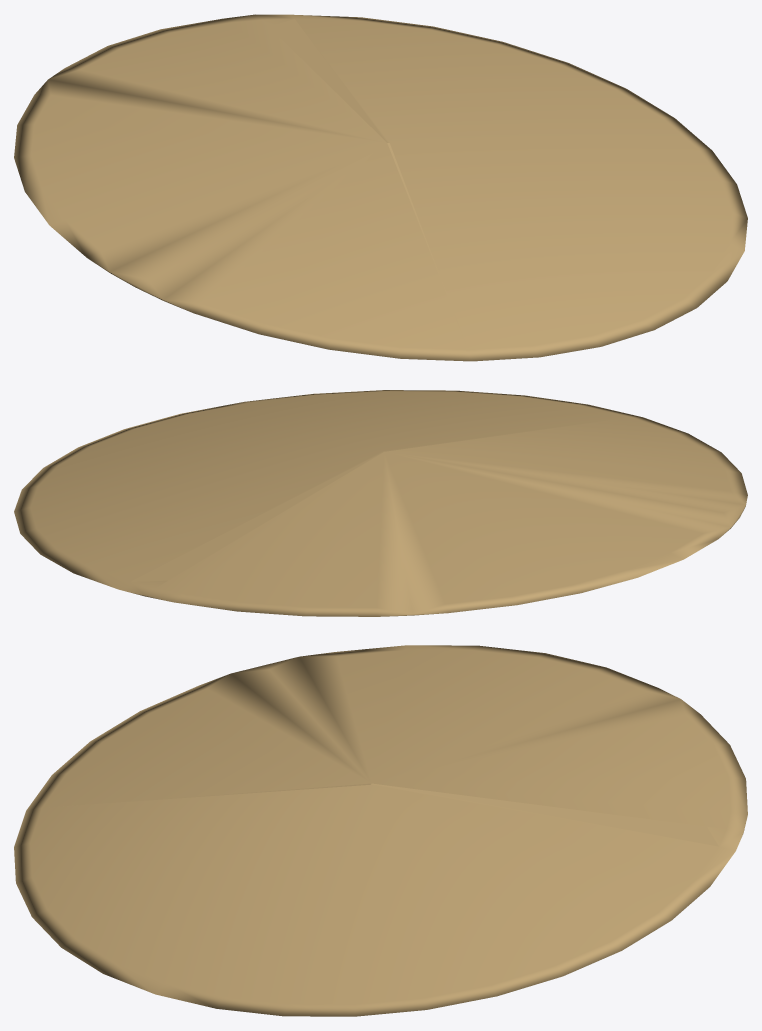
The model's file is Ride20ConvexHull.fbx.
3 renders of one model, top to bottom at view 1: azimuth 30°, elevation 25°; view 2: azimuth 150°, elevation 25°; view 3: azimuth 270°, elevation 25°, orthographic.
Parts seen in each view (by area): view 1: Ride20ConvexHull; view 2: Ride20ConvexHull; view 3: Ride20ConvexHull.
Part boxes in pixels (x1,y1,x2,y2): Ride20ConvexHull: [14, 14, 747, 361]; Ride20ConvexHull: [14, 390, 747, 616]; Ride20ConvexHull: [14, 645, 747, 1016].
Bounding box in the file's own units: 50.42 × 6.83 × 50.42.
